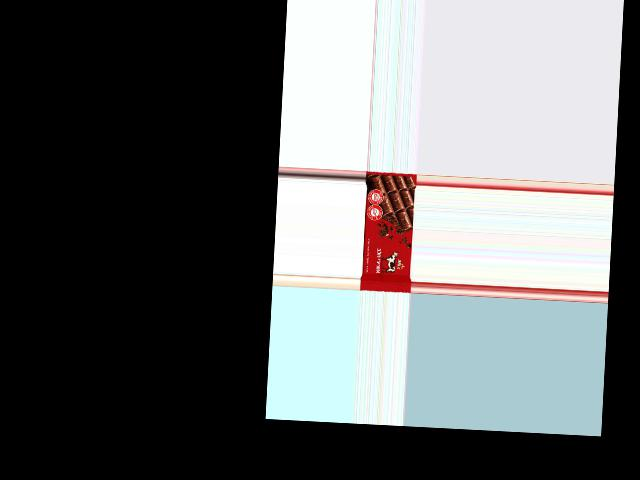chocolate: (359, 172, 415, 293)
